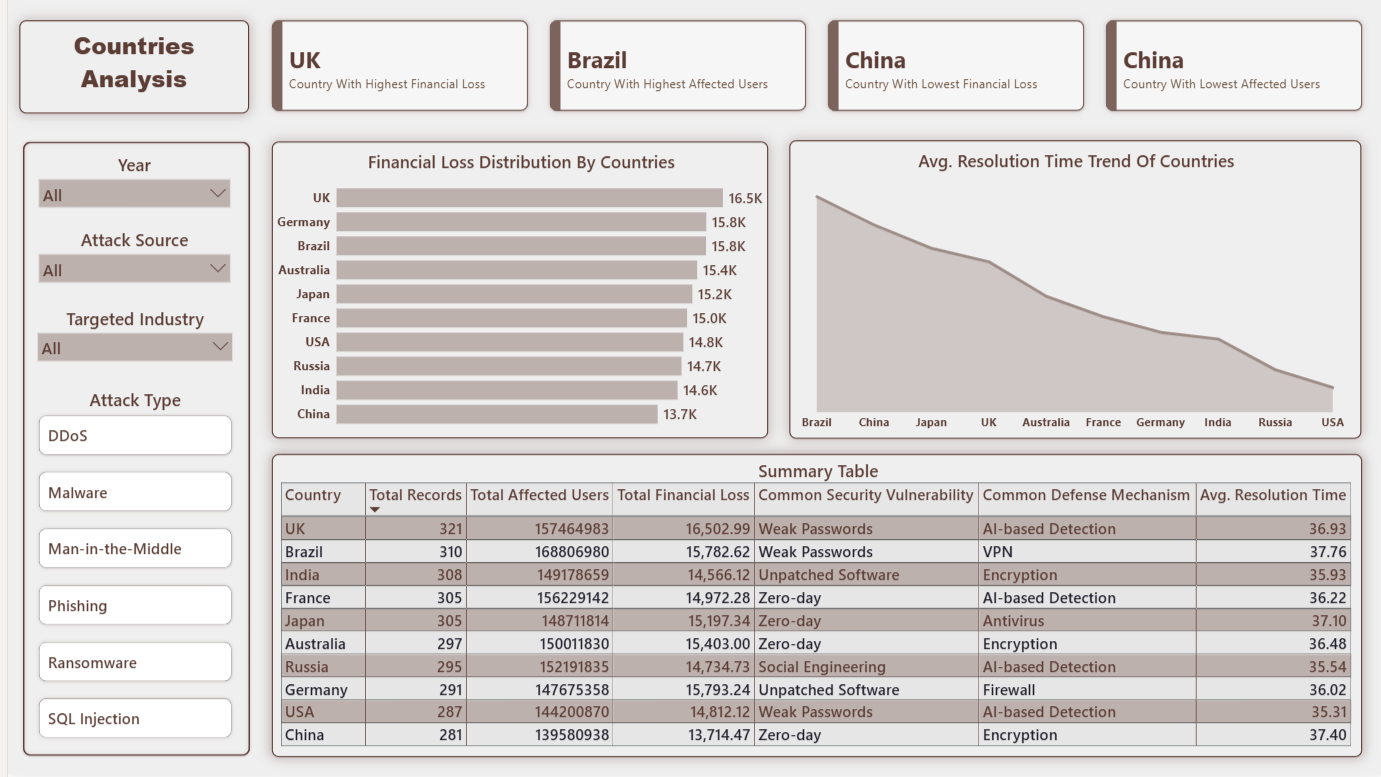

The page's visual inventory and layout, read from the dashboard file:
{"tool":"powerbi","page":{"name":"Countries Analysis ","canvas":[1920,1080],"ordinal":4},"visuals":[{"type":"group","id":"g1","title":"Group 1","box":[1.8,182.8,354.7,884.9],"z":0},{"type":"shape","box":[1.8,182.8,354.7,884.9],"z":0,"group":"g1"},{"type":"textbox","box":[16.2,27.7,320.8,130.5],"z":1000},{"type":"slicer","title":"Year","fields":{"Values":["Dataset.Year"]},"box":[23.5,202.7,307.6,126.7],"z":1000,"group":"g1"},{"type":"slicer","title":"Attack Source","fields":{"Values":["Dataset.Attack Source"]},"box":[23.5,307.6,307.6,126.7],"z":2000},{"type":"barChart","title":"Financial Loss Distribution By Countries","fields":{"Category":["Dataset.Country"],"Y":["All Measures.Total Financial Loss"]},"box":[367.4,196.9,693.1,414.8],"z":3000},{"type":"advancedSlicerVisual","title":"Attack Type","fields":{"Values":["Dataset.Attack Type"]},"box":[21.7,530.3,313.1,521.2],"z":3000,"group":"g1"},{"type":"cardVisual","fields":{"Data":["All Measures.Country With Maximum Financial Loss","All Measures.Country With Highest Affected Users","All Measures.Country With Lowest Financial Loss","All Measures.Country With Lowest Affected Users"]},"box":[340,0,1580,183.3],"z":4000},{"type":"slicer","title":"Targeted Industry","fields":{"Values":["Dataset.Target Industry"]},"box":[21.7,416.2,313.1,123.1],"z":4000,"group":"g1"},{"type":"tableEx","title":"Summary Table","fields":{"Values":["Dataset.Country","All Measures.Total Records","All Measures.Total Affected Users","All Measures.Total Financial Loss","All Measures.Common Security Vulnerability Type","All Measures.Common Defense Mechanism","All Measures.Avg. Resolution Time"]},"box":[367.4,633.4,1521.9,423.5],"z":5000},{"type":"lineChart","title":"Avg. Resolution Time Trend Of Countries","fields":{"Y":["All Measures.Avg. Resolution Time"],"Category":["Dataset.Country"]},"box":[1089.4,195.1,798.1,416.6],"z":6000}]}

Visuals, with their boxes in screenshot pixels (x1, y1, x2, y2), scaled from the page's 1920x1080 canvas onto the 1381x777 screenshot:
"Group 1" group: box(1, 132, 256, 768)
shape: box(1, 132, 256, 768)
textbox: box(12, 20, 242, 114)
"Year" slicer: box(17, 146, 238, 237)
"Attack Source" slicer: box(17, 221, 238, 312)
"Financial Loss Distribution By Countries" barChart: box(264, 142, 763, 440)
"Attack Type" advancedSlicerVisual: box(16, 382, 241, 756)
cardVisual - All Measures.Country With Maximum Financial Loss x All Measures.Country With Highest Affected Users: box(245, 0, 1380, 132)
"Targeted Industry" slicer: box(16, 299, 241, 388)
"Summary Table" tableEx: box(264, 456, 1359, 760)
"Avg. Resolution Time Trend Of Countries" lineChart: box(784, 140, 1358, 440)
